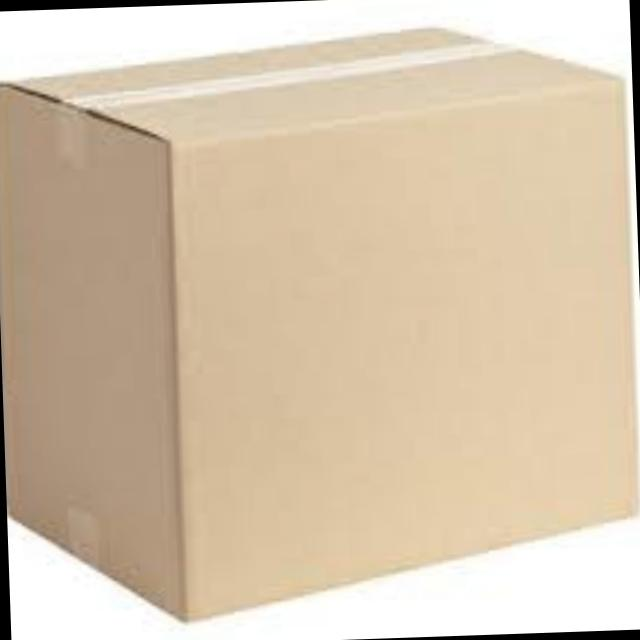cardboard paper: (0, 25, 640, 613)
